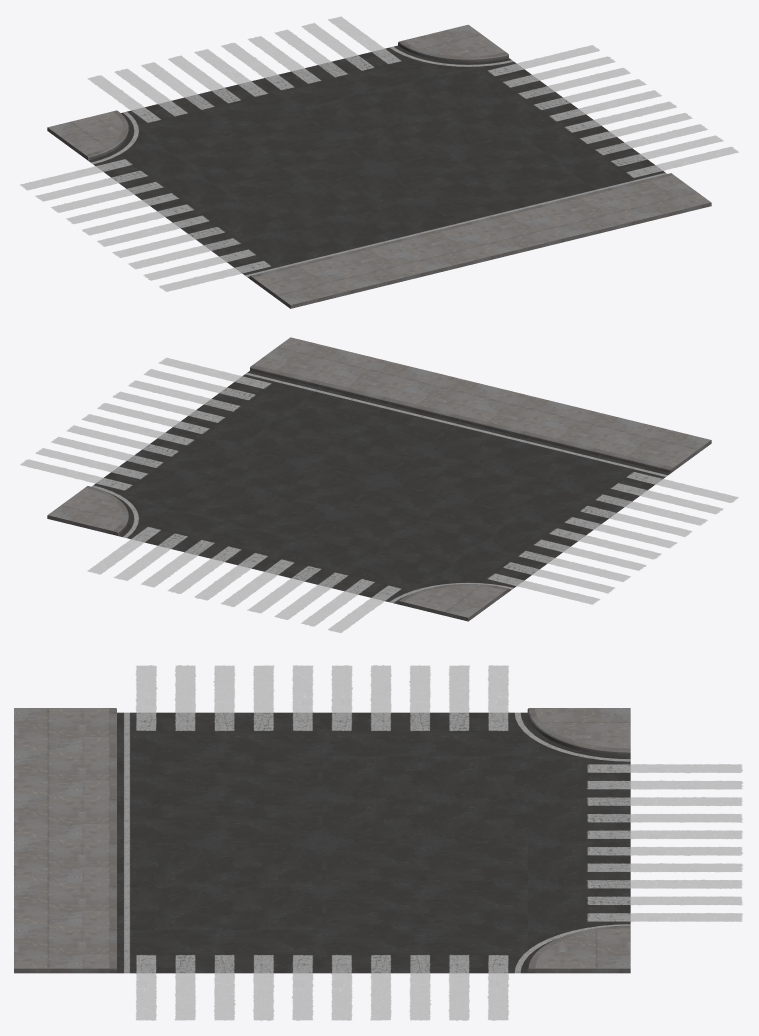
3 views of the same model, one above another, from view 1: azimuth 30°, elevation 25°; view 2: azimuth 150°, elevation 25°; view 3: azimuth 270°, elevation 25° (orthographic). The views are drawn at different scales.
Visible parts, largest first — view 1: Street_TIntersection; view 2: Street_TIntersection; view 3: Street_TIntersection.
Part boxes in pixels (x1=…): Street_TIntersection: x1=20, y1=16, x2=738, y2=308; Street_TIntersection: x1=20, y1=337, x2=738, y2=632; Street_TIntersection: x1=14, y1=665, x2=742, y2=1020.
Bounding box in the file's own units: 24.67 × 0.15 × 21.33.
3 materials, 3 textured.
